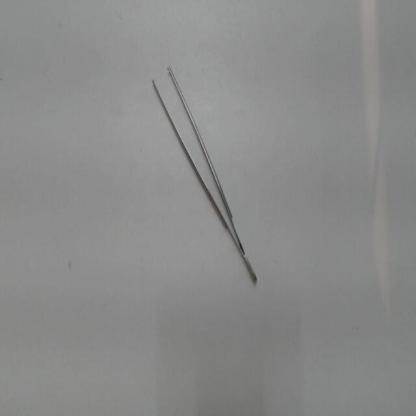Gillies Toothed Dissector: (146, 46, 265, 294)
